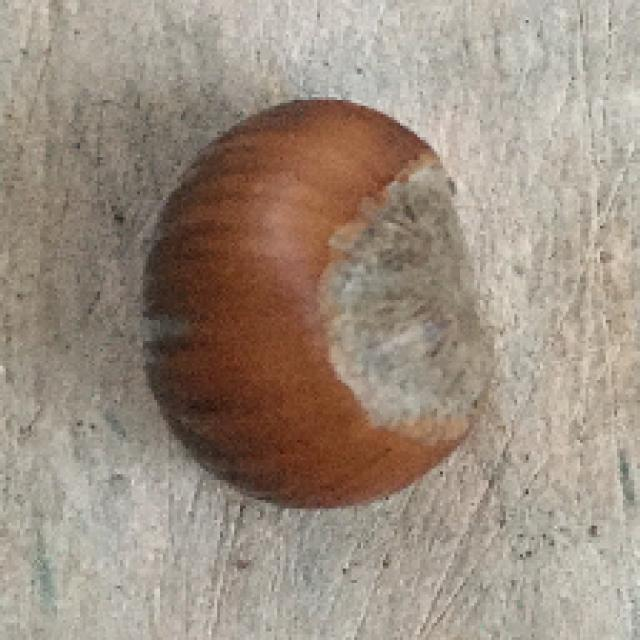qualityHazelnut: (134, 97, 502, 519)
